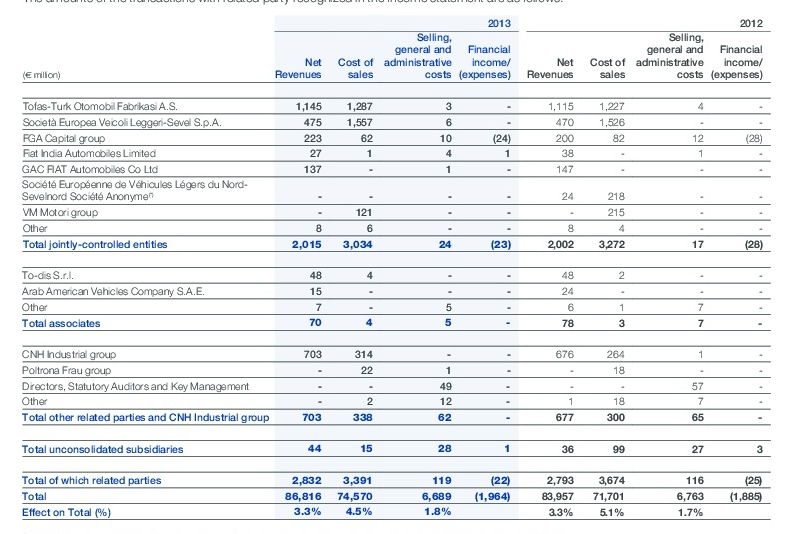table: (0, 0, 786, 534)
